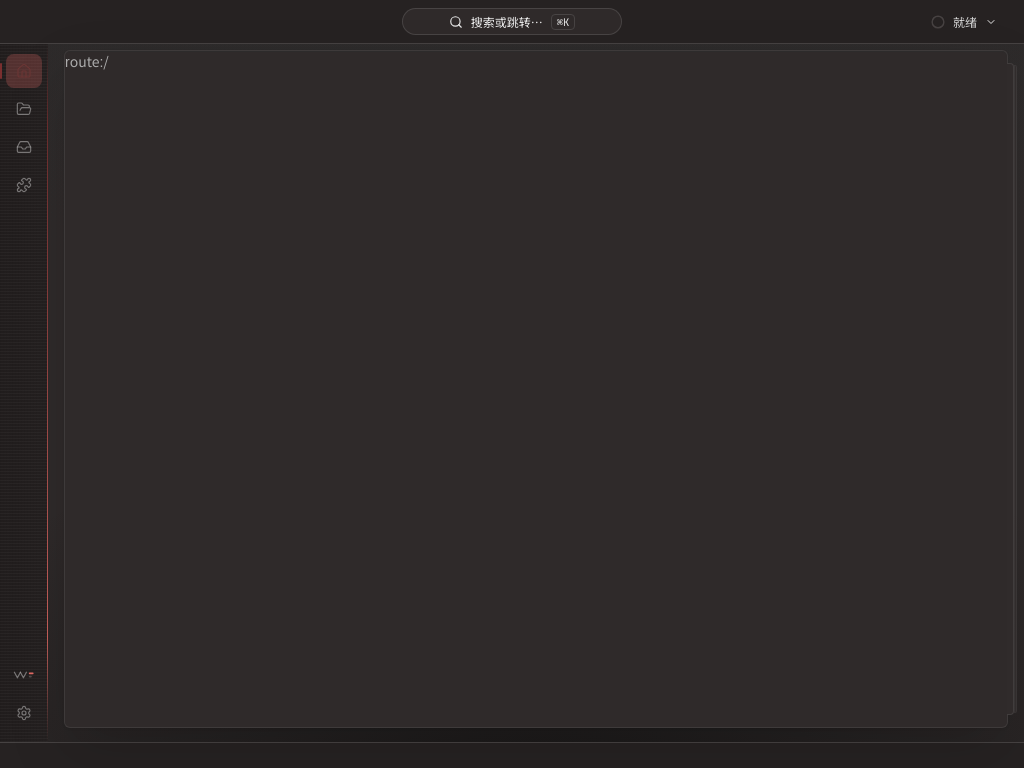
it: ⌘K 命令面板 › 输入过滤：无匹配显示空态
Press k
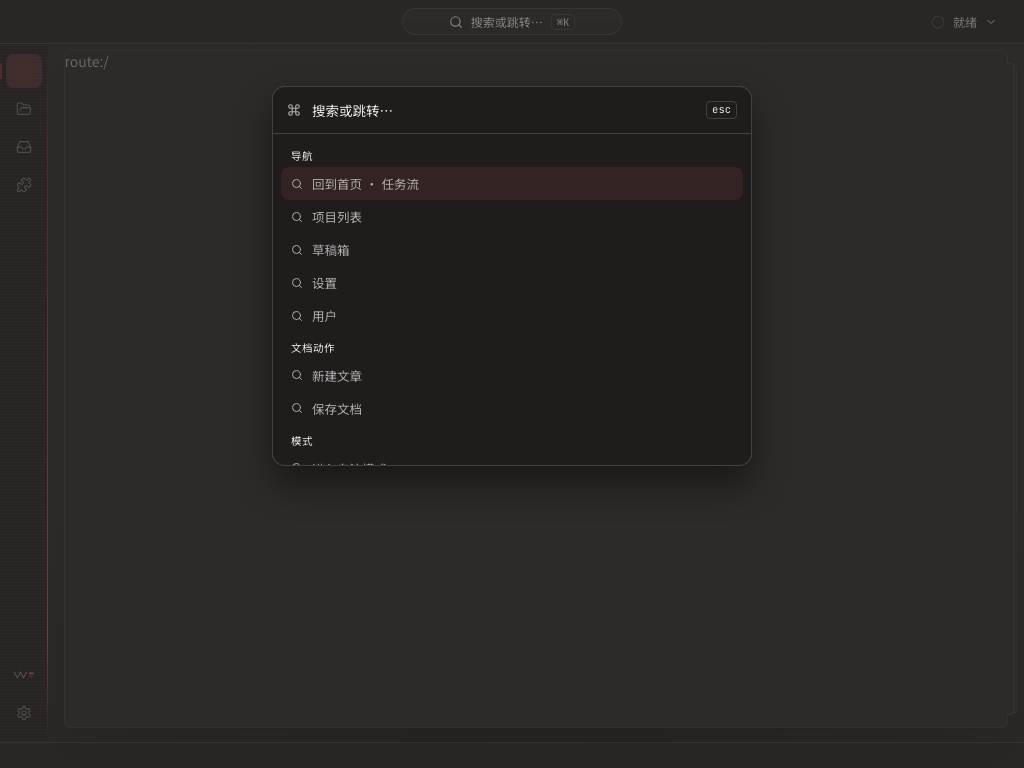
Type "不存在的命令xyz" into the field with test id "palette-input" at (504, 110), box left=310, top=99, right=697, bottom=121
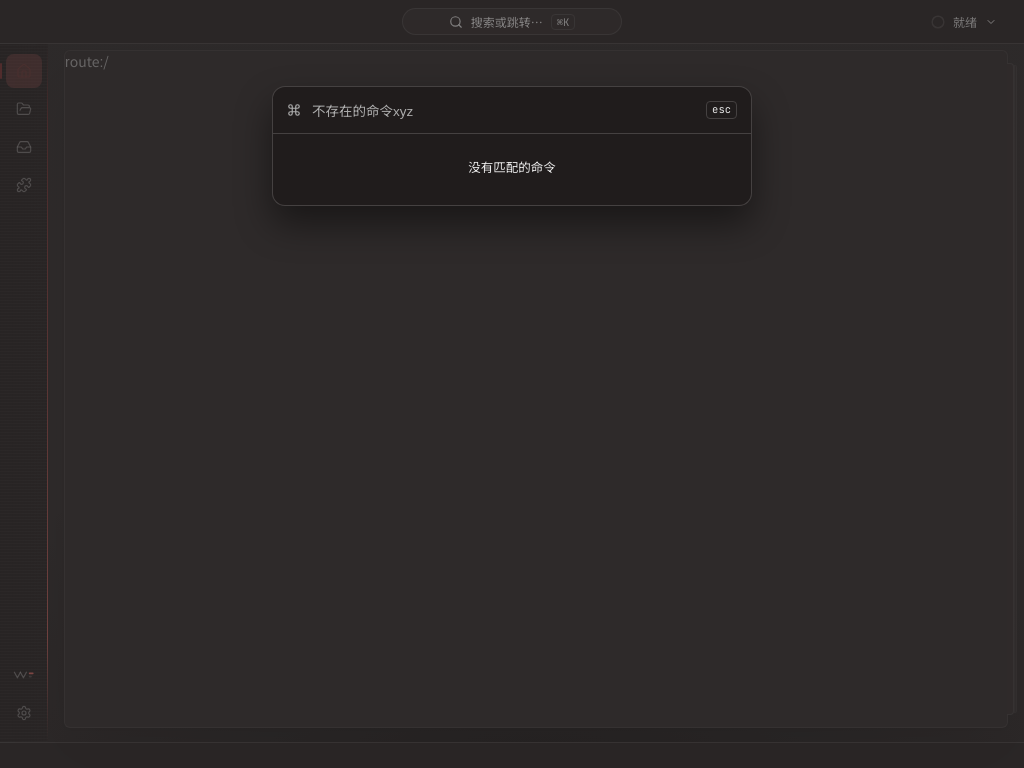
Result: the text "没有匹配的命令" is shown at left=468, top=157, right=556, bottom=176
Replace the text in the field with test id "palette-input" with "专注" at (504, 110), box left=310, top=99, right=697, bottom=121
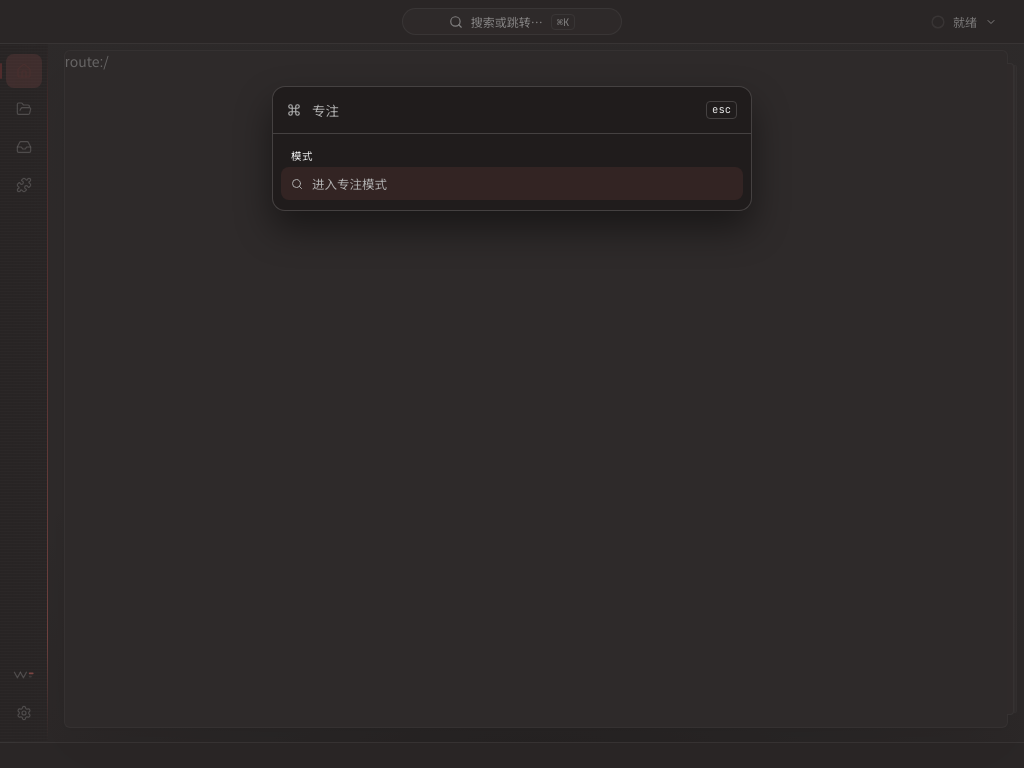
Result: the text with test id "palette-empty" is gone
Result: the button "进入专注模式" is shown at left=281, top=167, right=743, bottom=200
